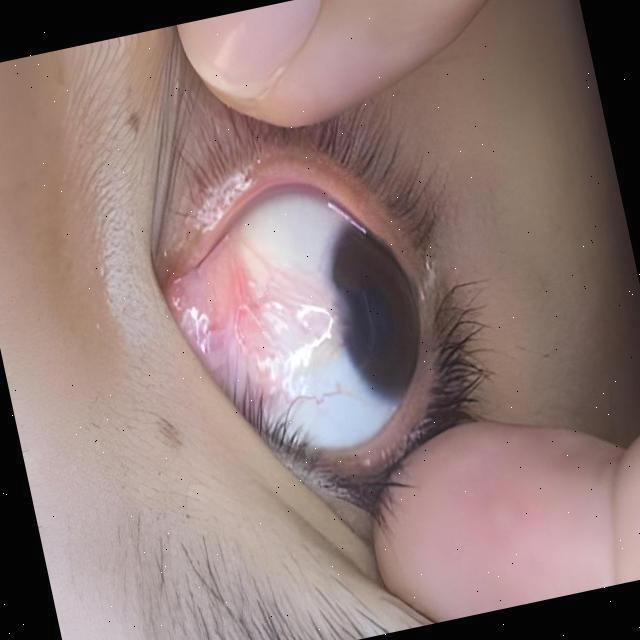Pterygium: (168, 210, 372, 414)
